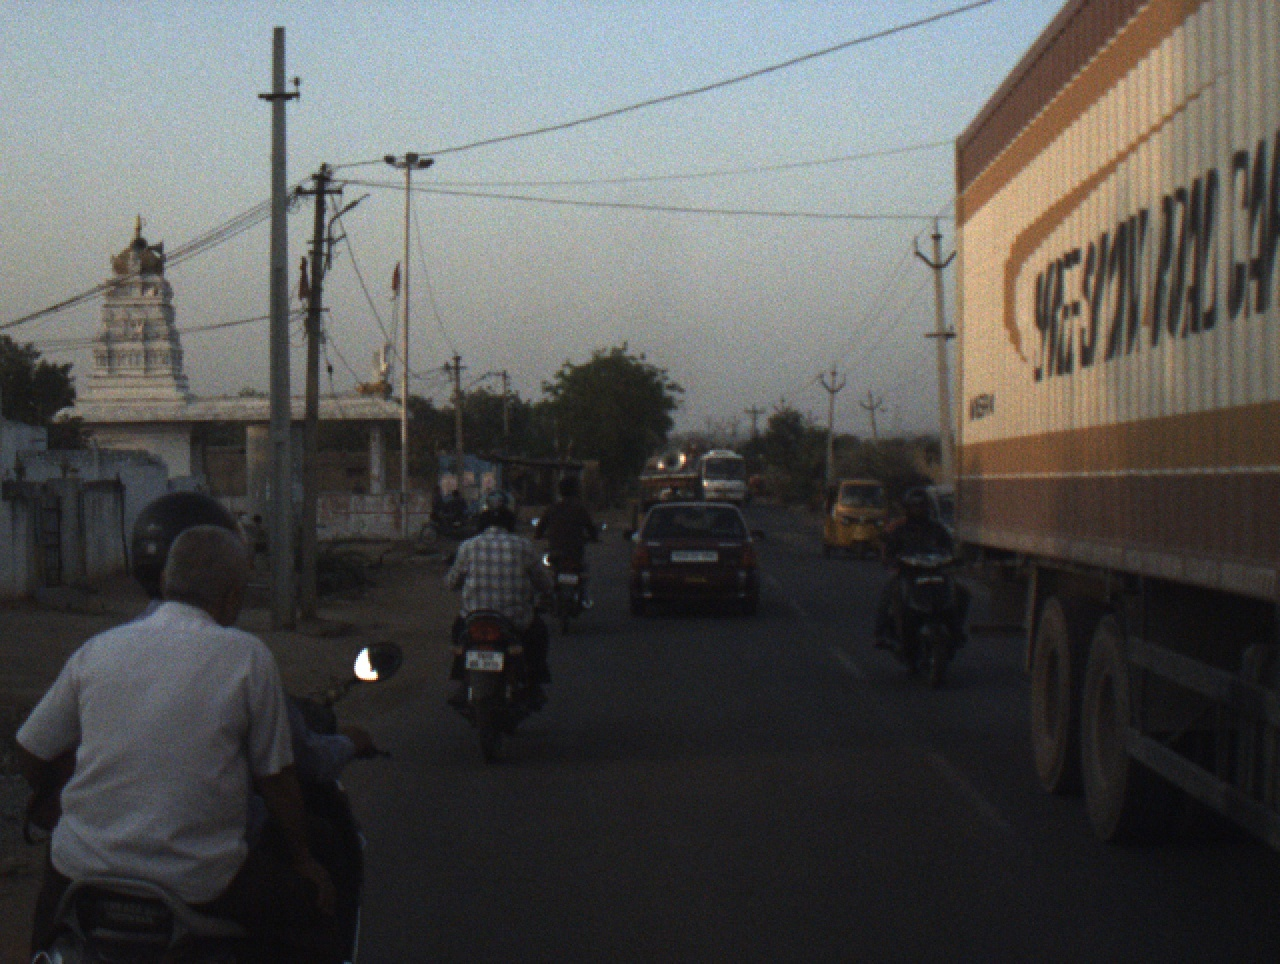autorickshaw: (816, 474, 892, 560)
bus: (693, 449, 749, 509)
car: (621, 500, 770, 618), (925, 483, 990, 568), (633, 451, 704, 527)
motorcycle: (439, 553, 560, 768), (872, 532, 967, 688), (529, 513, 607, 639), (421, 508, 482, 551)
person: (249, 512, 273, 570), (431, 481, 446, 517)
rider: (10, 524, 379, 961), (121, 492, 372, 960), (443, 487, 555, 718), (871, 484, 977, 651), (440, 486, 470, 533)
truck: (949, 2, 1279, 862), (680, 436, 706, 462)
vehicle fallback: (748, 472, 767, 497)
